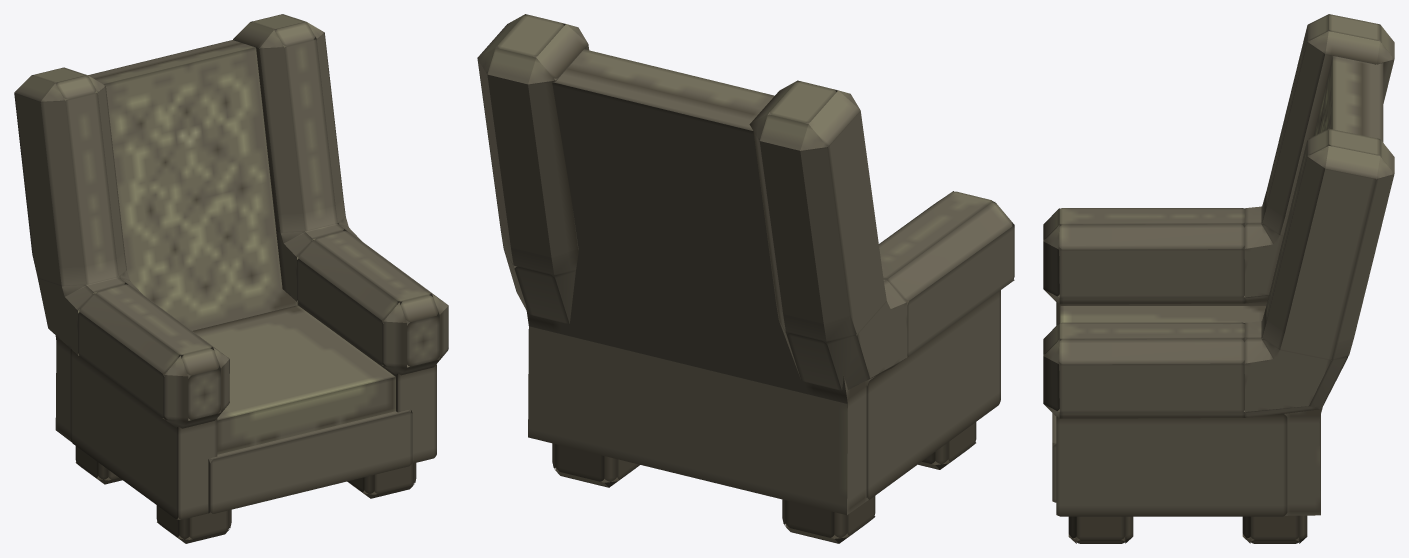
File: armchair_beige.fbx
The picture shows the model from 3 angles, left to right: view 1: azimuth 30°, elevation 25°; view 2: azimuth 150°, elevation 25°; view 3: azimuth 270°, elevation 25°; orthographic projection. The views are drawn at different scales.
Visible parts, largest first — view 1: beveled_cuboid.001; view 2: beveled_cuboid.001; view 3: beveled_cuboid.001.
Part boxes in pixels (x1,y1,x2,y2): beveled_cuboid.001: [14, 14, 448, 543]; beveled_cuboid.001: [477, 14, 1014, 543]; beveled_cuboid.001: [1043, 14, 1394, 543].
Size of the model in its own units: 272 by 345 by 271.
